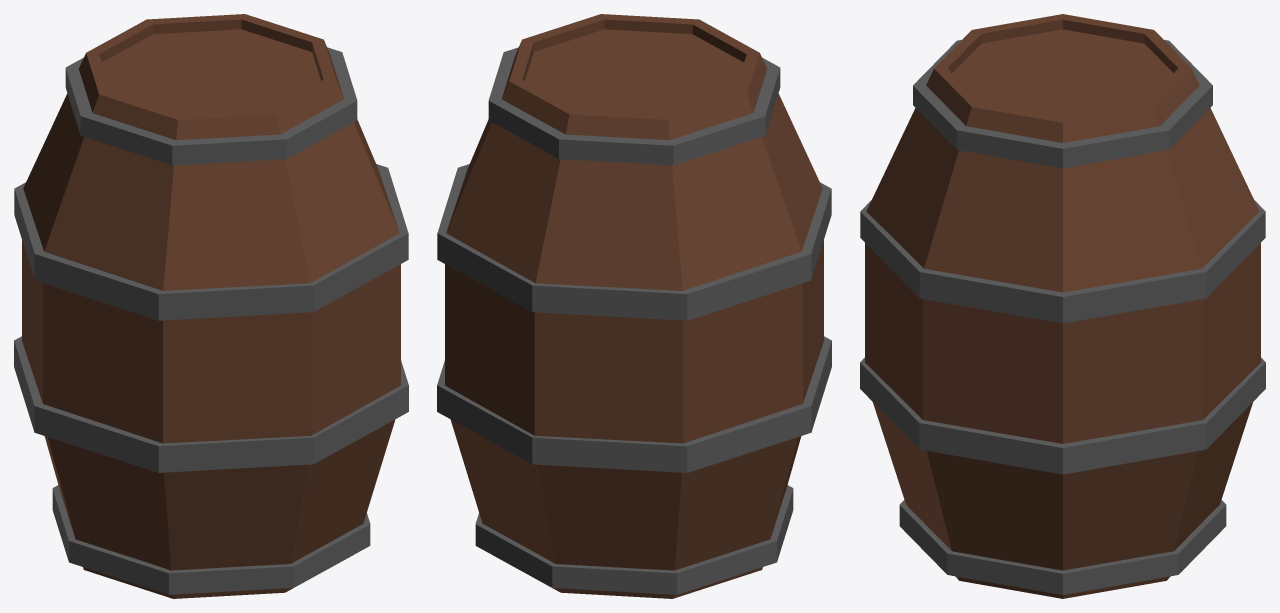
File: Fass.fbx
The picture shows the model from 3 angles, left to right: view 1: azimuth 30°, elevation 25°; view 2: azimuth 150°, elevation 25°; view 3: azimuth 270°, elevation 25°; orthographic projection.
Visible parts, largest first — view 1: Cylinder, Cylinder.002, Cylinder.003, Cylinder.001, Cylinder.004; view 2: Cylinder, Cylinder.002, Cylinder.003, Cylinder.001, Cylinder.004; view 3: Cylinder, Cylinder.002, Cylinder.003, Cylinder.001, Cylinder.004.
Boxes of the visible parts, x1,y1,x2,y2 form: Cylinder: (22, 14, 400, 598); Cylinder.002: (14, 164, 408, 320); Cylinder.003: (14, 336, 408, 472); Cylinder.001: (65, 47, 357, 165); Cylinder.004: (52, 485, 370, 594); Cylinder: (445, 14, 823, 598); Cylinder.002: (437, 164, 831, 320); Cylinder.003: (437, 336, 831, 472); Cylinder.001: (488, 47, 780, 165); Cylinder.004: (475, 485, 793, 594); Cylinder: (865, 14, 1260, 598); Cylinder.002: (860, 200, 1265, 323); Cylinder.003: (860, 357, 1265, 474); Cylinder.001: (913, 39, 1212, 168); Cylinder.004: (899, 500, 1226, 594).
Bounding box in the file's own units: 238 × 303 × 238.
